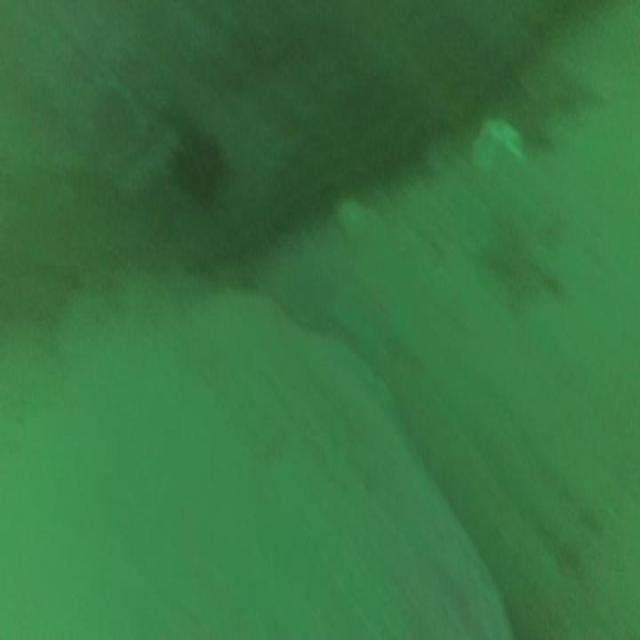echinus: (167, 112, 233, 217)
starfish: (478, 209, 566, 319)
